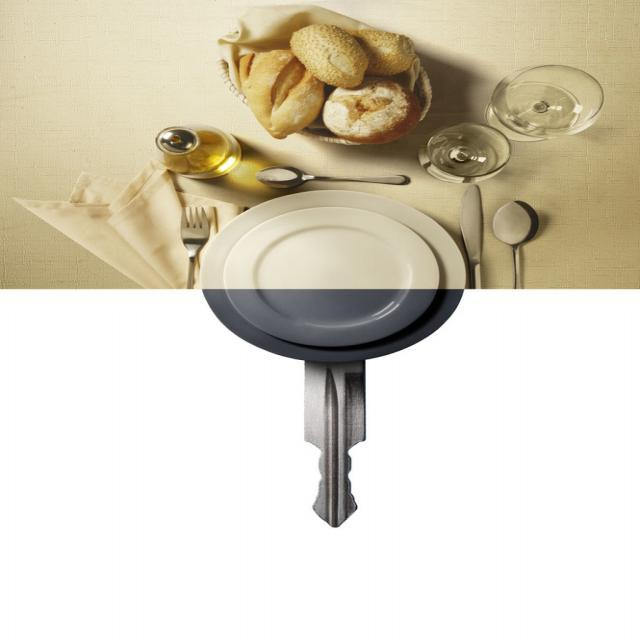ceramic plate: (182, 188, 480, 370)
